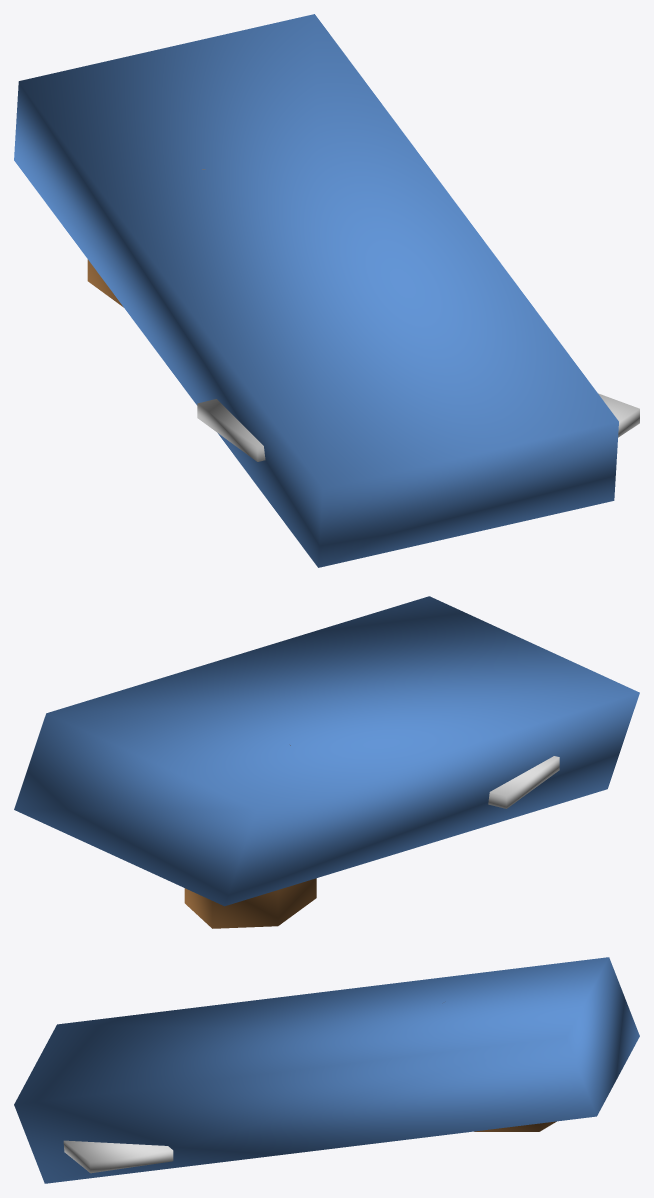
File: rural-mailbox-wreck.glb
The picture shows the model from 3 angles, top to bottom: view 1: azimuth 30°, elevation 25°; view 2: azimuth 150°, elevation 25°; view 3: azimuth 270°, elevation 25°; orthographic projection. The views are drawn at different scales.
Parts seen in each view (by area): view 1: world; view 2: world; view 3: world.
Part boxes in pixels (x1,y1,x2,y2): world: (14,14,639,567); world: (14,596,639,928); world: (14,957,639,1183).
Size of the model in its own units: 1.2 by 0.8 by 2.5.
